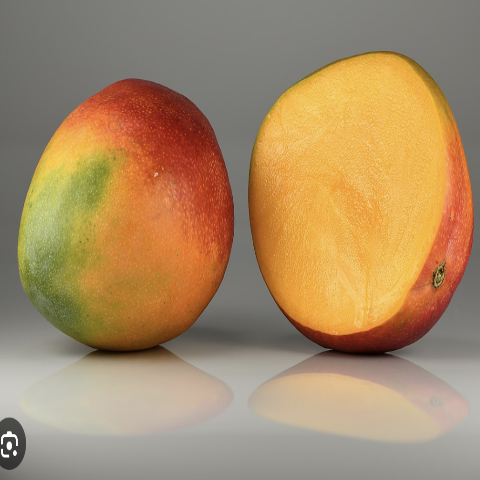mango: (244, 36, 478, 386), (12, 74, 239, 381)
